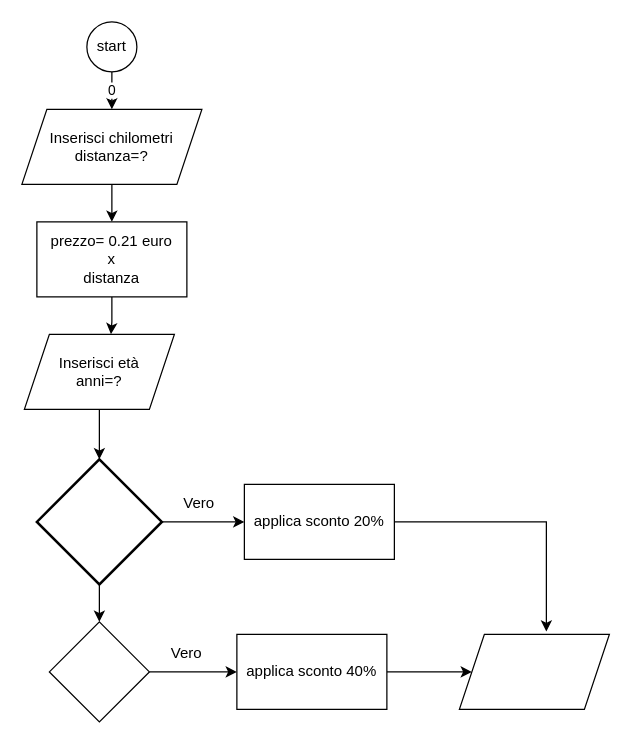
Some shapes in this 631 by 744 pixel diagram are drawn without their labels. The shapes that lost their labels are listed below. From the top down, each one's centre as x and y in pixels, then its label:
point (98, 521): Se anni < 18
point (98, 671): Se anni > 65
point (533, 671): Stampa prezzo
